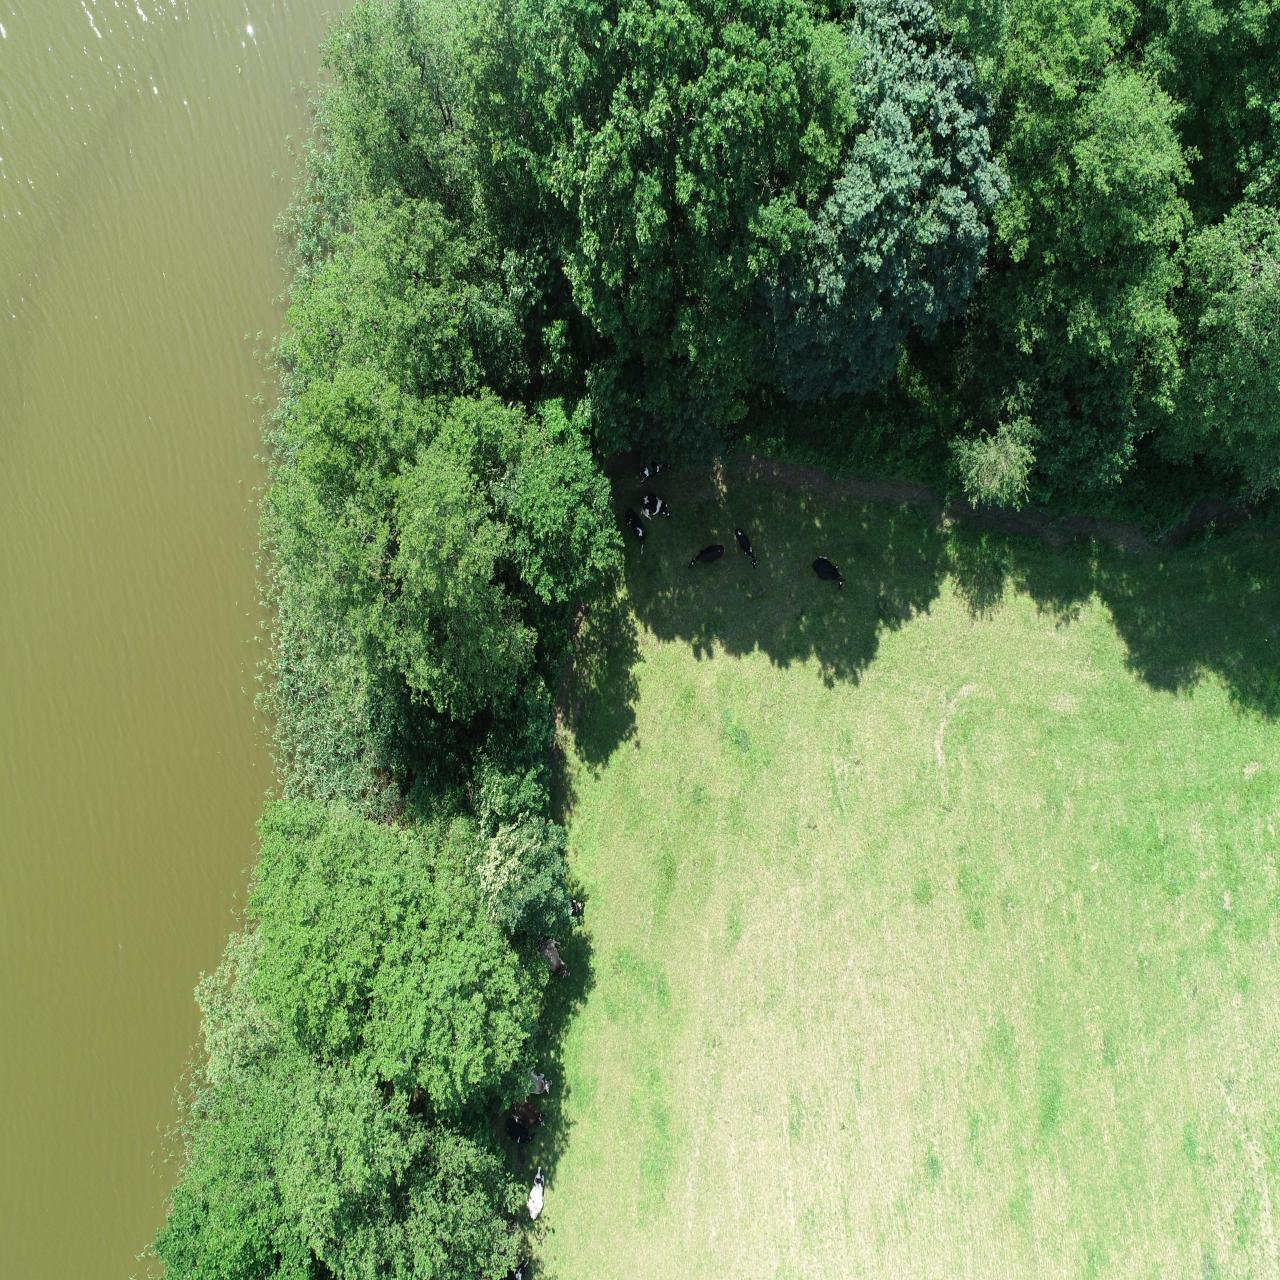cow: (733, 524, 761, 571), (526, 1163, 546, 1223), (812, 554, 844, 592), (687, 542, 726, 572), (639, 493, 670, 524)
